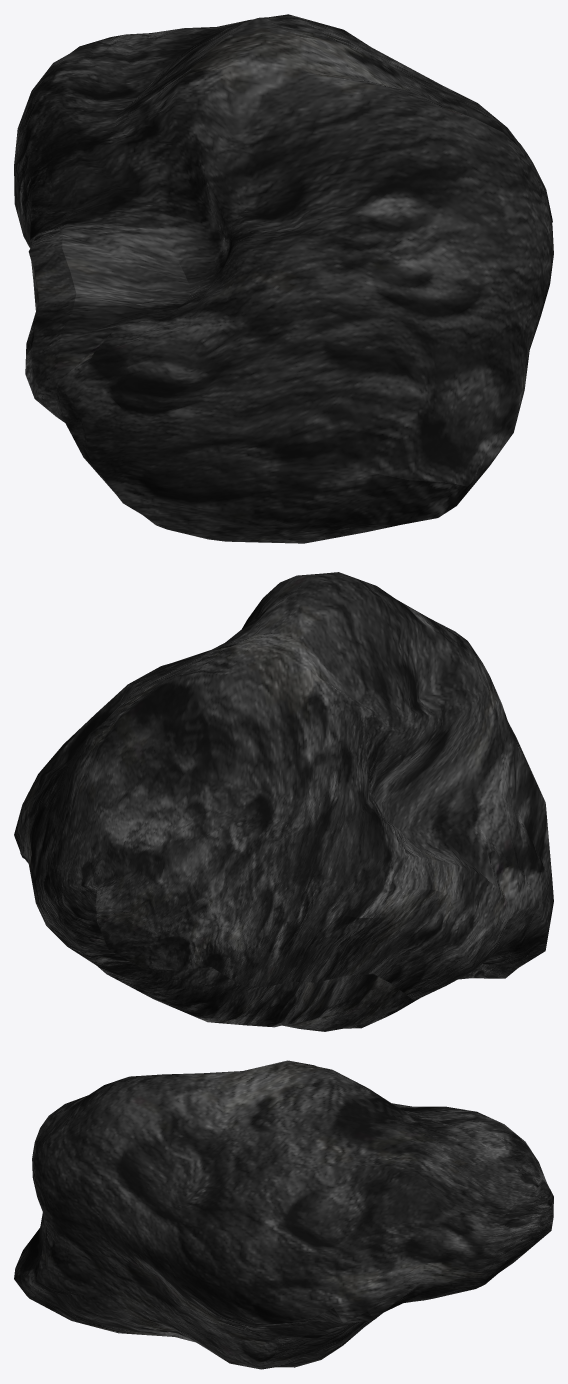
File: Single_asteroid_2.fbx
3 views of the same model, one above another, from view 1: azimuth 30°, elevation 25°; view 2: azimuth 150°, elevation 25°; view 3: azimuth 270°, elevation 25° (orthographic). The views are drawn at different scales.
Parts seen in each view (by area): view 1: aster2; view 2: aster2; view 3: aster2.
Part boxes in pixels (x1=…): aster2: x1=14, y1=14, x2=553, y2=543; aster2: x1=14, y1=572, x2=553, y2=1031; aster2: x1=14, y1=1060, x2=553, y2=1369.
Bounding box in the file's own units: 19.36 × 14.67 × 25.
1 material, 1 textured.
